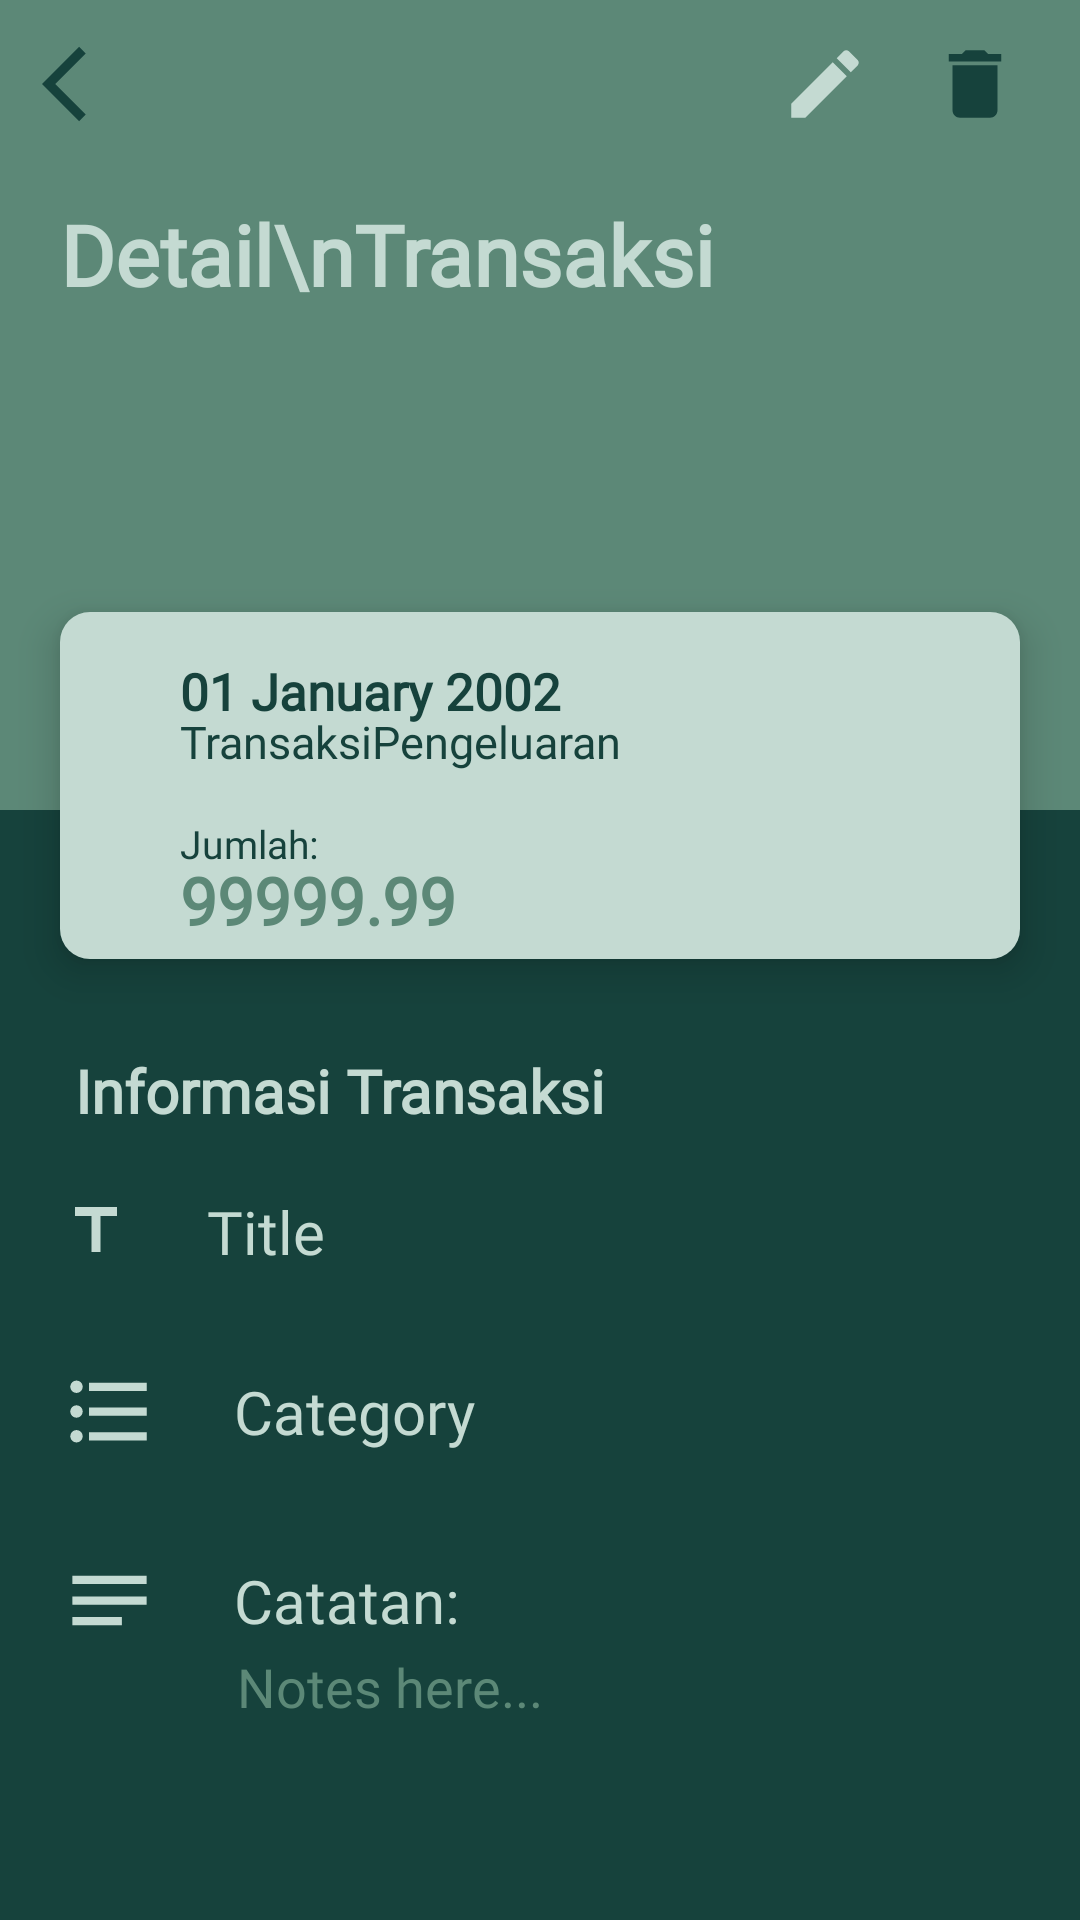

Named icons in this screenshot (1080w x 1920h) and their bounding boxes, (x1, y1, x2, y2):
arrow back: (42, 47, 86, 121)
delete: (949, 50, 1001, 118)
edit: (791, 50, 859, 118)
